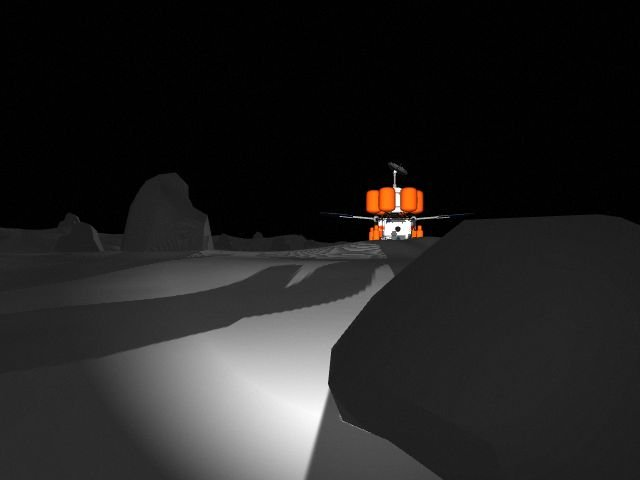homebase: (325, 160, 467, 249)
